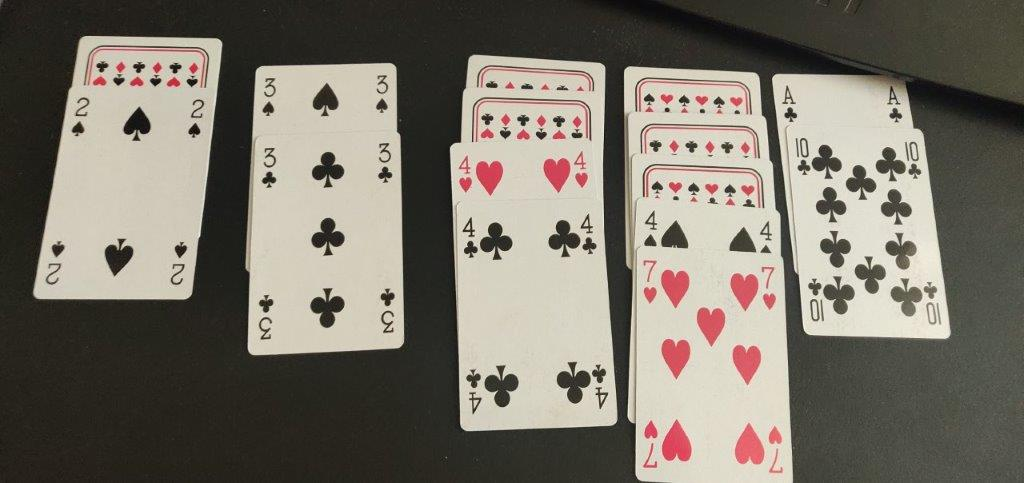10C: (791, 131, 814, 179), (901, 137, 924, 182)
2S: (68, 94, 91, 138), (186, 97, 207, 139)
3C: (259, 143, 284, 192), (374, 142, 394, 186)
3S: (258, 73, 282, 116), (371, 72, 392, 116)
4C: (459, 211, 482, 264), (579, 209, 599, 261)
4H: (573, 147, 594, 190), (456, 154, 476, 195)
4S: (641, 205, 659, 246), (758, 217, 774, 258)
7H: (639, 255, 661, 306), (757, 260, 778, 312)
AC: (778, 80, 800, 127), (884, 82, 904, 125)
